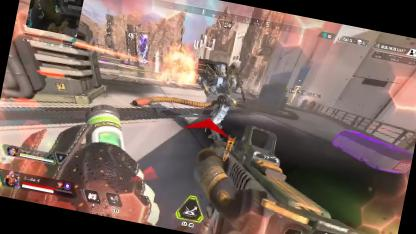Target: (197, 60, 243, 144)
